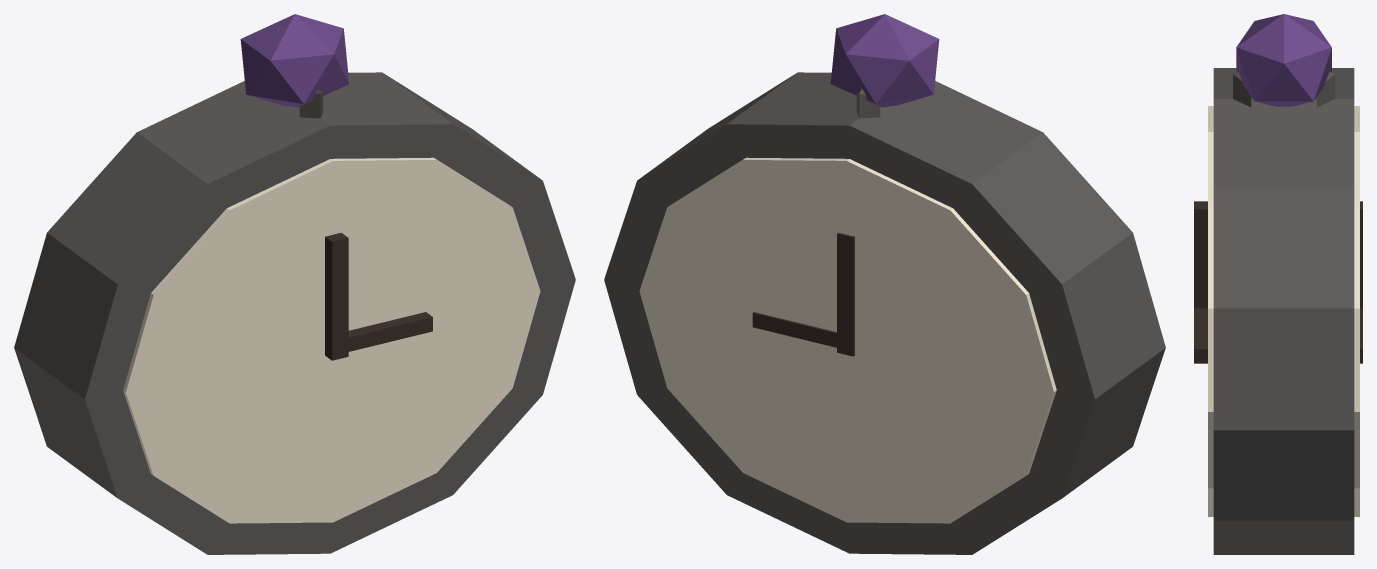
The model's file is CursedTrinket.fbx.
The picture shows the model from 3 angles, left to right: view 1: azimuth 30°, elevation 25°; view 2: azimuth 150°, elevation 25°; view 3: azimuth 270°, elevation 25°; orthographic projection.
Visible parts, largest first — view 1: CursedTrinket; view 2: CursedTrinket; view 3: CursedTrinket.
Part boxes in pixels (x1,y1,x2,y2): CursedTrinket: (14,14,575,554); CursedTrinket: (604,14,1165,554); CursedTrinket: (1194,14,1362,554).
Size of the model in its own units: 1 by 1 by 0.3.
